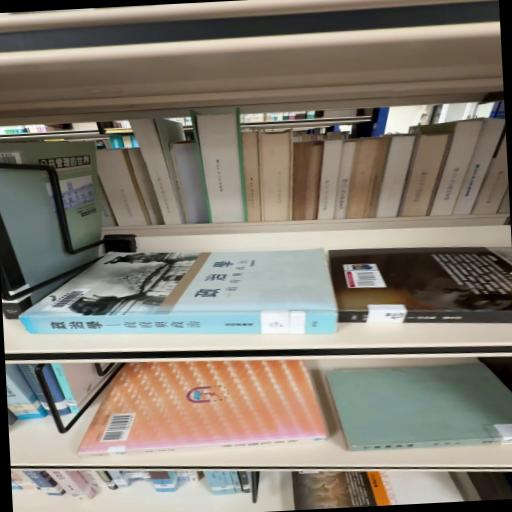flat: (21, 250, 339, 336), (79, 361, 328, 458), (327, 363, 512, 452)
